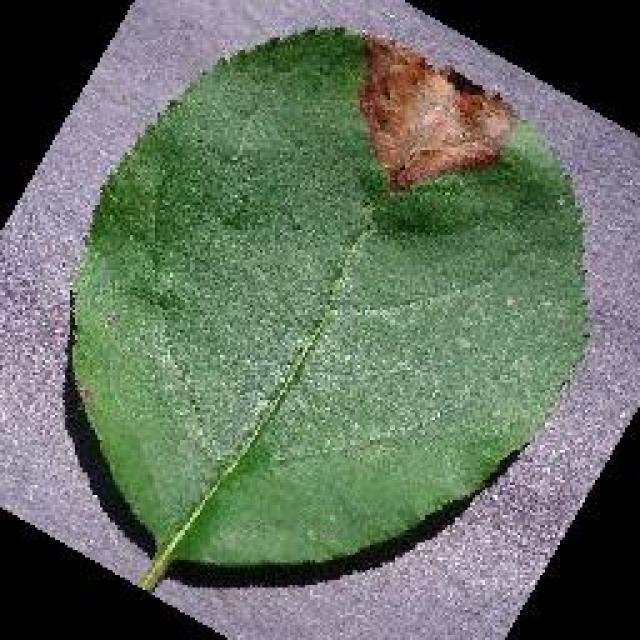apple black rot: (63, 22, 595, 590)
